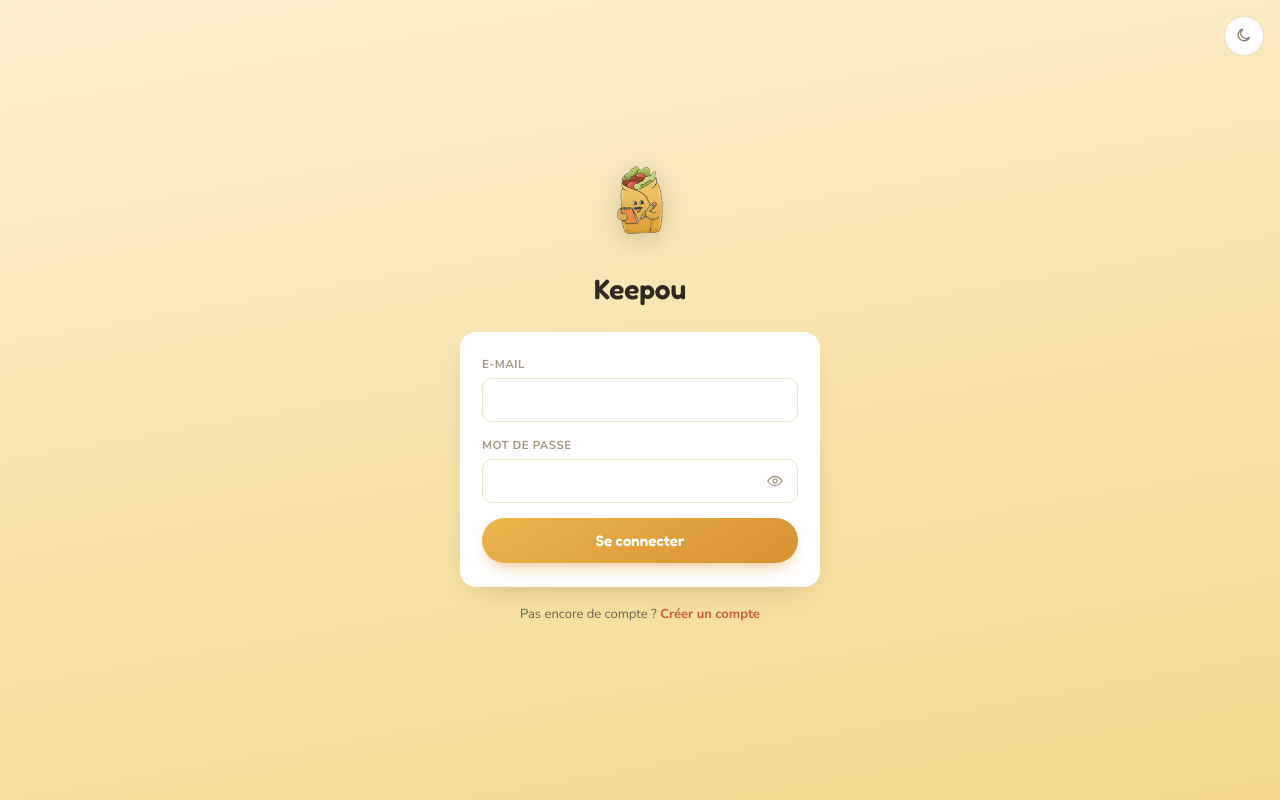
LoginPage › shows the gold inline message for a disabled account (403)
Type "marie@famille-ou.fr" into the field labelled "E-mail" at x=640, y=400, box x1=496 y1=379 x2=784 y2=421
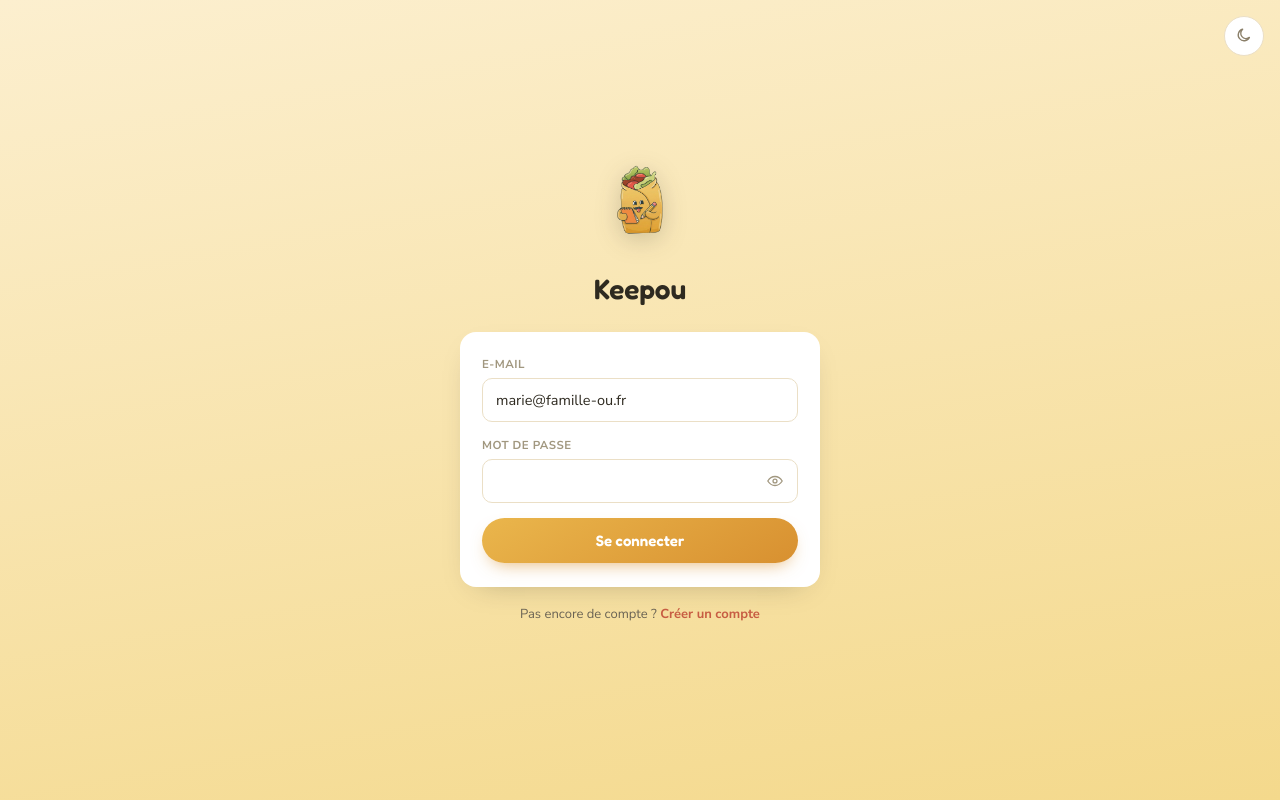
Type "un mot de passe" into the password field labelled "Mot de passe" at x=624, y=481, box x1=496 y1=460 x2=753 y2=502
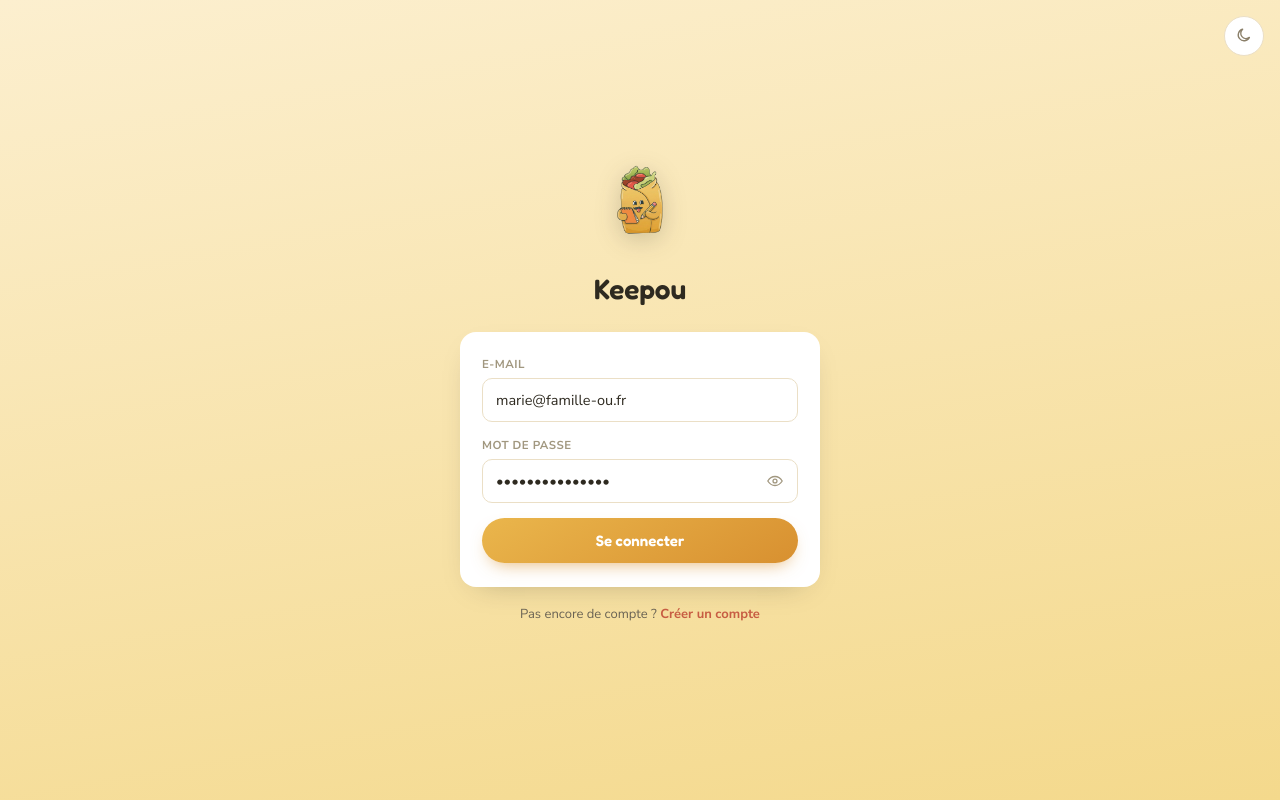
Click the button "Se connecter" at x=640, y=541, box x1=482 y1=518 x2=798 y2=563
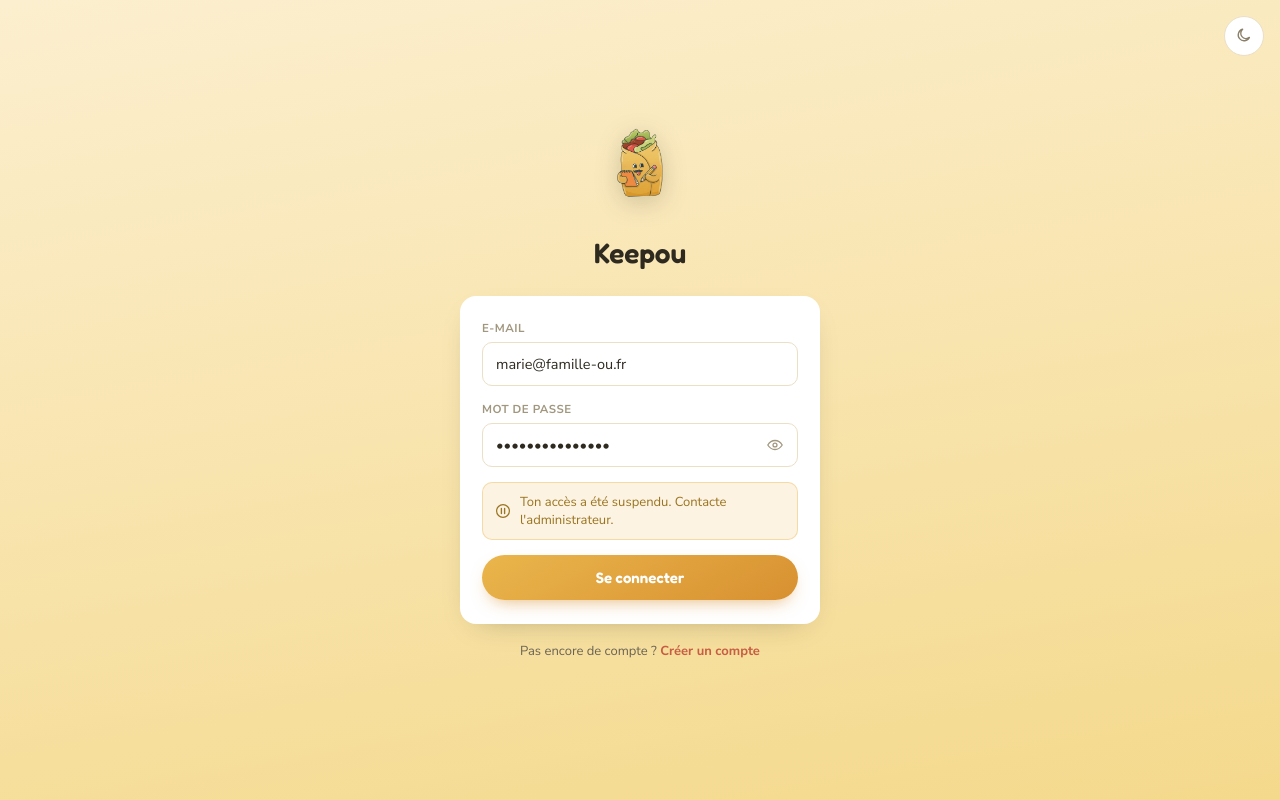
Expected: the message reads "Ton accès a été suspendu. Contacte l'administrateur.", x1=520 y1=493 x2=726 y2=529
